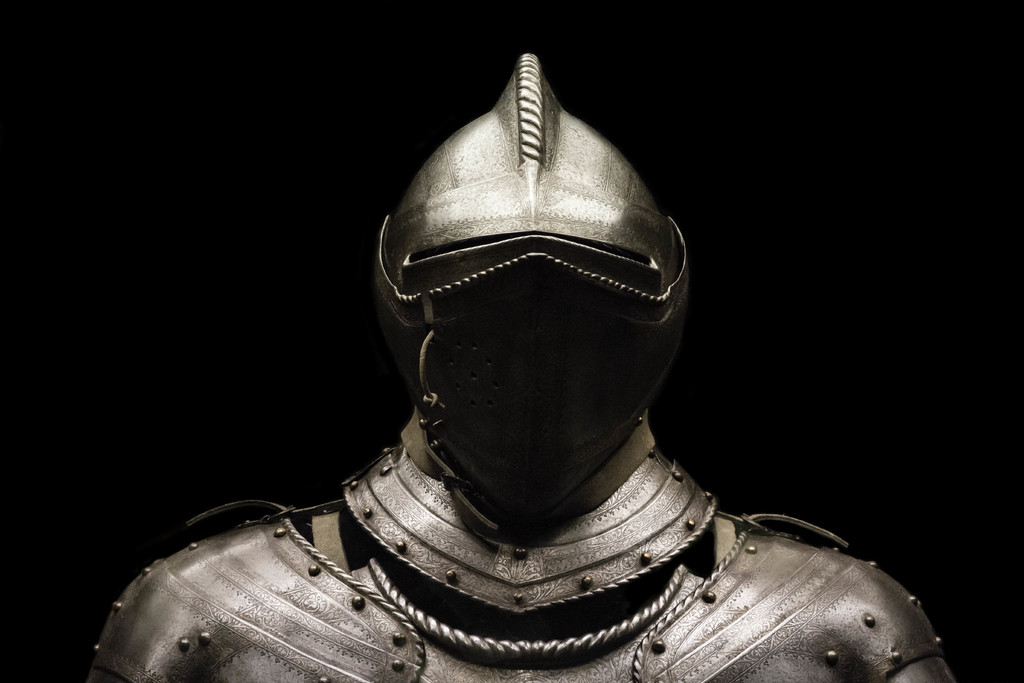Person: (84, 53, 956, 683)
